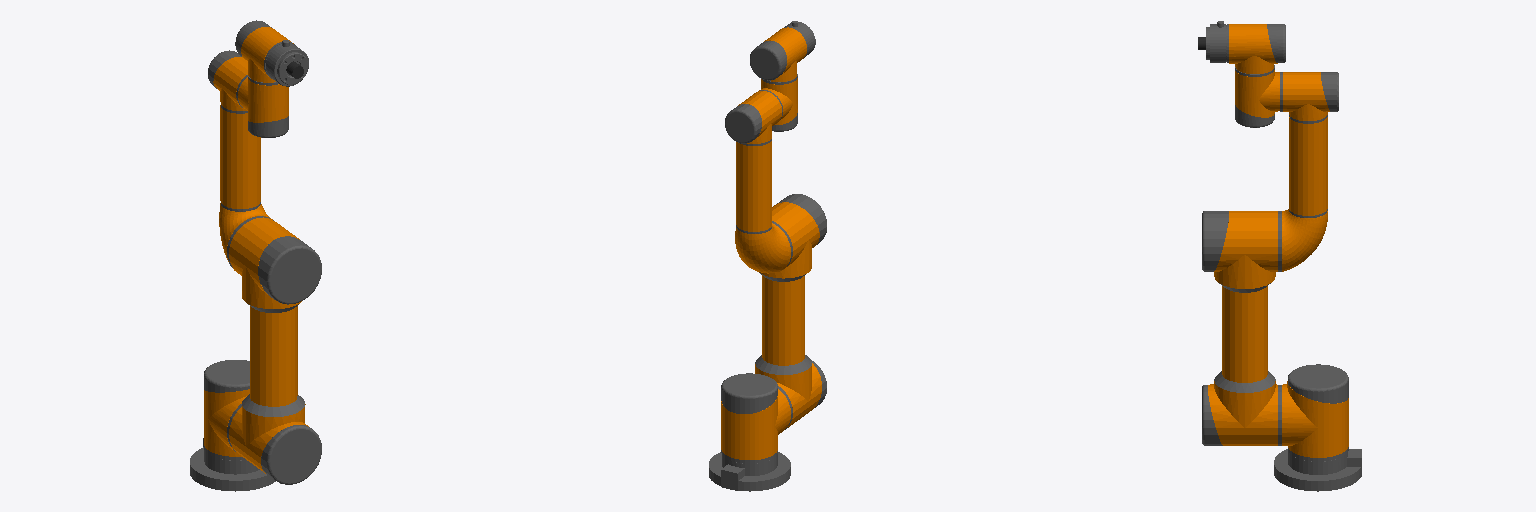
URDF robot description (aubo_i7):
<?xml version="1.0"?>
<robot  name="aubo_i7">

  <material name="Black_Acrylic">
    <color rgba="0.070360 0.070360 0.070360 1"/>
  </material>
  <material name="Cameras_Gray">
    <color rgba="0.296138 0.296138 0.296138 1"/>
  </material>
  <material name="IR_Emitter_Lens">
    <color rgba="0.287440 0.665387 0.327778 1"/>
  </material>
  <material name="IR_Lens">
    <color rgba="0.035601 0.035601 0.035601 1"/>
  </material>
  <material name="IR_Rim">
    <color rgba="0.799102 0.806952 0.799103 1"/>
  </material>
  <material name="Metal_Casing">
    <color rgba="1 1 1 1"/>
  </material>
  <material name="RGB_Pupil">
    <color rgba="0.087140 0.002866 0.009346 1"/>
  </material>
  <material name="Silver">
    <color rgba="0.75 0.75 0.75 1"/>
  </material>
  
  <dh_type type="modified"/>
  <safety_para singularity_consistent="0.02 0.01 10 0.2 0.045 10"/>	
  <link name="base_link">
    <inertial>
      <origin xyz="0.000129 0.001249 0.016678" rpy="0 0 0" />
      <mass value="1.53902" />
      <inertia ixx="0.003278" ixy="-0.000001" ixz="-0.000001" iyy="0.003017" iyz="-0.000048" izz="0.005841" />
    </inertial>
    <visual>
      <origin xyz="0 0 0" rpy="0 0 0" />
      <geometry>
        <mesh filename="link0.obj" />
      </geometry>
      <material name="gray">
        <color rgba="0.411765 0.411765 0.411765 1" />
      </material>
    </visual>
    <collision>
      <origin xyz="0 0 0" rpy="0 0 0" />
      <geometry>
        <mesh filename="link0.obj" />
      </geometry>
    </collision>
  </link>

  <link name="shoulder_Link">
    <inertial>
      <origin xyz="-0.00001 0.001807 -0.013854" rpy="0 0 0" />
      <mass value="4.848581" />
      <inertia ixx="0.011842" ixy="0" ixz="0.000004" iyy="0.0118" iyz="-0.000103" izz="0.008103" />
    </inertial>

    <visual>
        <origin xyz="0 0 0" rpy="0 0 0" />
        <geometry>
            <mesh filename="link1_0.obj" />
        </geometry>
        <material name="orange">
            <color rgba="0.909804 0.513726 0 1" />
        </material>
    </visual>
    
    <visual>
        <origin xyz="0 0 0" rpy="0 0 0" />
        <geometry>
            <mesh filename="link1_1.obj" />
        </geometry>
        <material name="gray">
            <color rgba="0.411765 0.411765 0.411765 1" />
        </material>
    </visual>

    <collision>
      <origin xyz="0 0 0" rpy="0 0 0" />
      <geometry>
        <mesh filename="link1.obj" />
      </geometry>
    </collision>
  </link>

  <joint name="shoulder_joint" type="revolute">
    <origin xyz="0 0 0.122" rpy="0 0 3.1415926535897932384626433832795" />
    <parent link="base_link" />
    <child link="shoulder_Link" />
    <axis xyz="0 0 1" />
    <limit lower="-6.283185307179586476925286766559" upper="6.283185307179586476925286766559" effort="133" start_stop="207" velocity="2.5964" />
    <property inertia="2.0" damping="0" stiffness="0" offset="0" motor_constant="8.72" ratio="121"/>
  </joint>

  <link name="upperArm_Link">
    <inertial>
      <origin xyz="0.184 0 0.006603" rpy="0 0 0" />
      <mass value="10.741921" />
      <inertia ixx="0.02582" ixy="-0.000019" ixz="0" iyy="0.355431" iyz="0" izz="0.347772" />
    </inertial>

    <visual>
        <origin xyz="0 0 0" rpy="0 0 0" />
        <geometry>
            <mesh filename="link2_0.obj" />
        </geometry>
        <material name="orange">
            <color rgba="0.909804 0.513726 0 1" />
        </material>
    </visual>
    
    <visual>
        <origin xyz="0 0 0" rpy="0 0 0" />
        <geometry>
            <mesh filename="link2_1.obj" />
        </geometry>
        <material name="gray">
            <color rgba="0.411765 0.411765 0.411765 1" />
        </material>
    </visual>

    <collision>
      <origin xyz="0 0 0" rpy="0 0 0" />
      <geometry>
        <mesh filename="link2.obj" />
      </geometry>
    </collision>
  </link>

  <joint name="upperArm_joint" type="revolute">
    <origin xyz="0 0.1215 0" rpy="-1.5707963267948966192313216916398 -1.5707963267948966192313216916398 0" />
    <parent link="shoulder_Link" />
    <child link="upperArm_Link" />
    <axis xyz="0 0 1" />
    <limit lower="-6.283185307179586476925286766559" upper="6.283185307179586476925286766559" effort="133" start_stop="207" velocity="2.5964" />
    <property inertia="2.0" damping="0" stiffness="0" offset="0" motor_constant="8.72" ratio="121"/>
  </joint>

  <link name="foreArm_Link">
    <inertial>
      <origin xyz="0.221799 -0.000027 0.093832" rpy="0 0 0" />
      <mass  value="2.854995" />
      <inertia ixx="0.003584" ixy="0.000008" ixz="0.000017" iyy="0.047624" iyz="0.000004" izz="0.046982" />
    </inertial>

    <visual>
        <origin xyz="0 0 0" rpy="0 0 0" />
        <geometry>
            <mesh filename="link3_1.obj" />
        </geometry>
        <material name="orange">
            <color rgba="0.909804 0.513726 0 1" />
        </material>
    </visual>
    
    <visual>
        <origin xyz="0 0 0" rpy="0 0 0" />
        <geometry>
            <mesh filename="link3_0.obj" />
        </geometry>
        <material name="gray">
            <color rgba="0.411765 0.411765 0.411765 1" />
        </material>
    </visual>

    <collision>
      <origin xyz="0 0 0" rpy="0 0 0" />
      <geometry>
        <mesh filename="link3.obj" />
      </geometry>
    </collision>
  </link>

  <joint name="foreArm_joint" type="revolute">
    <origin xyz="0.368 0 0" rpy="-3.1415926535897932384626433832795 0 0" />
    <parent link="upperArm_Link" />
    <child link="foreArm_Link" />
    <axis xyz="0 0 1" />
    <limit lower="-6.283185307179586476925286766559" upper="6.283185307179586476925286766559" effort="133" start_stop="207" velocity="2.5964" />
    <property inertia="2.0" damping="0" stiffness="0" offset="0" motor_constant="8.72" ratio="121"/>
  </joint>

  <link name="wrist1_Link">
    <inertial>
      <origin xyz="0.000038 0.011278 -0.001539" rpy="0 0 0" />
      <mass value="1.628022" />
      <inertia ixx="0.001951" ixy="0.000003" ixz="0.000001" iyy="0.001154" iyz="-0.000042" izz="0.001931" />
    </inertial>

    <visual>
        <origin xyz="0 0 0" rpy="0 0 0" />
        <geometry>
            <mesh filename="link4_1.obj" />
        </geometry>
        <material name="orange">
            <color rgba="0.909804 0.513726 0 1" />
        </material>
    </visual>
    
    <visual>
        <origin xyz="0 0 0" rpy="0 0 0" />
        <geometry>
            <mesh filename="link4_0.obj" />
        </geometry>
        <material name="gray">
            <color rgba="0.411765 0.411765 0.411765 1" />
        </material>
    </visual>

    <collision>
      <origin xyz="0 0 0" rpy="0 0 0" />
      <geometry>
        <mesh filename="link4.obj" />
      </geometry>
    </collision>
  </link>

  <joint name="wrist1_joint" type="revolute">
    <origin xyz="0.316 0 0" rpy="3.1415926535897932384626433832795 0 1.5707963267948966192313216916398" />
    <parent link="foreArm_Link" />
    <child link="wrist1_Link" />
    <axis xyz="0 0 1" />
    <limit lower="-6.283185307179586476925286766559" upper="6.283185307179586476925286766559" effort="13.5" start_stop="34" velocity="3.1105" />
    <property inertia="0.15" damping="0" stiffness="0" offset="0" motor_constant="7.092" ratio="101"/>
  </joint>

  <link name="wrist2_Link">
    <inertial>
      <origin xyz="-0.000038 -0.011278 -0.001539" rpy="0 0 0" />
      <mass value="1.628022" />
      <inertia ixx="0.001951" ixy="0.000003" ixz="-0.000001" iyy="0.001154" iyz="0.000042" izz="0.001931" />
    </inertial>

    <visual>
        <origin xyz="0 0 0" rpy="0 0 0" />
        <geometry>
            <mesh filename="link5_1.obj" />
        </geometry>
        <material name="orange">
            <color rgba="0.909804 0.513726 0 1" />
        </material>
    </visual>
    
    <visual>
        <origin xyz="0 0 0" rpy="0 0 0" />
        <geometry>
            <mesh filename="link5_0.obj" />
        </geometry>
        <material name="gray">
            <color rgba="0.411765 0.411765 0.411765 1" />
        </material>
    </visual>

    <collision>
      <origin xyz="0 0 0" rpy="0 0 0" />
      <geometry>
        <mesh filename="link5.obj" />
      </geometry>
    </collision>
  </link>

  <joint name="wrist2_joint" type="revolute">
    <origin xyz="0 0.1025 0" rpy="-1.5707963267948966192313216916398 0 0" />
    <parent link="wrist1_Link" />
    <child link="wrist2_Link" />
    <axis xyz="0 0 1" />
    <limit lower="-6.283185307179586476925286766559" upper="6.283185307179586476925286766559" effort="13.5" start_stop="34" velocity="3.1105" />
    <property inertia="0.15" damping="0" stiffness="0" offset="0" motor_constant="7.092" ratio="101"/>
  </joint>

  <link name="wrist3_Link">
    <inertial>
      <origin xyz="0.000022 0.0006 -0.017081" rpy="0 0 0" />
      <mass value="0.1978" />
      <inertia ixx="0.000118" ixy="0" ixz="0" iyy="0.000112" iyz="0.000001" izz="0.000184" />
    </inertial>
    <visual>
      <origin xyz="0 0 0" rpy="0 0 0" />
      <geometry>
        <mesh filename="link6.obj" />
      </geometry>
      <material name="gray">
        <color rgba="0.411765 0.411765 0.411765 1" />
      </material>
    </visual>
    <collision>
      <origin xyz="0 0 0" rpy="0 0 0" />
      <geometry>
        <mesh filename="link6.obj" />
      </geometry>
    </collision>
  </link>

  <joint name="wrist3_joint" type="revolute">
    <origin xyz="0 -0.094 0" rpy="1.5707963267948966192313216916398 0 1.7907E-15" />
    <parent link="wrist2_Link" />
    <child link="wrist3_Link" />
    <axis xyz="0 0 1" />
    <limit lower="-6.283185307179586476925286766559" upper="6.283185307179586476925286766559" effort="13.5" start_stop="34" velocity="3.1105" />
    <property inertia="0.15" damping="0" stiffness="0" offset="0" motor_constant="7.092" ratio="101"/>
  </joint>

  <link name="ft_Link">
    <inertial>
      <origin xyz="0 0 0" rpy="0 0 0" />
      <mass value="0" />
      <inertia ixx="0" ixy="0" ixz="0" iyy="0" iyz="0" izz="0" />
    </inertial>
    <visual>
      <origin xyz="0 0 0" rpy="0 0 0" />
      <geometry>
        <cylinder radius="0.0125" length="0.032"/>
      </geometry>
      <material name="gray">
        <color rgba="0.22 0.22 0.22 1" />
      </material>
    </visual>
    <collision>
      <origin xyz="0 0 0" rpy="0 0 0" />
      <geometry>
        <cylinder radius="0.0125" length="0.032"/>
      </geometry>
    </collision>
  </link>

  <joint name="ft_joint" type="fixed">
    <parent link="wrist3_Link" />
    <child link="ft_Link" />
    <origin xyz="0 0 0" rpy="0 0 0" />
  </joint>

  <link name="camera_link">
    <inertial>
      <origin xyz="0 0 0" rpy="0 0 0"/>
      <mass value="0.072"/>
      <inertia ixx="0.0001" ixy="0" ixz="0" iyy="0.0001" iyz="0" izz="0.0001"/>
    </inertial>

    <visual>
      <geometry>
        <mesh filename="assets/d435i_0.obj" scale="1 1 1"/>
      </geometry>
      <material name="IR_Lens"/>
    </visual>
    
    <visual>
      <geometry>
        <mesh filename="assets/d435i_1.obj" scale="1 1 1"/>
      </geometry>
      <material name="IR_Emitter_Lens"/>
    </visual>
    
    <visual>
      <geometry>
        <mesh filename="assets/d435i_2.obj" scale="1 1 1"/>
      </geometry>
      <material name="IR_Rim"/>
    </visual>
    
    <visual>
      <geometry>
        <mesh filename="assets/d435i_3.obj" scale="1 1 1"/>
      </geometry>
      <material name="IR_Lens"/>
    </visual>
    
    <visual>
      <geometry>
        <mesh filename="assets/d435i_4.obj" scale="1 1 1"/>
      </geometry>
      <material name="Cameras_Gray"/>
    </visual>
    
    <visual>
      <geometry>
        <mesh filename="assets/d435i_5.obj" scale="1 1 1"/>
      </geometry>
      <material name="Black_Acrylic"/>
    </visual>
    
    <visual>
      <geometry>
        <mesh filename="assets/d435i_6.obj" scale="1 1 1"/>
      </geometry>
      <material name="Black_Acrylic"/>
    </visual>
    
    <visual>
      <geometry>
        <mesh filename="assets/d435i_7.obj" scale="1 1 1"/>
      </geometry>
      <material name="RGB_Pupil"/>
    </visual>
    
    <visual>
      <geometry>
        <mesh filename="assets/d435i_8.obj" scale="1 1 1"/>
      </geometry>
      <material name="Metal_Casing"/>
    </visual>

    <collision>
      <geometry>
        <box size="0.09 0.05 0.03"/>
      </geometry>
    </collision>
  </link>

  <joint name="camera_joint" type="fixed">
    <parent link="wrist3_Link" />
    <child link="camera_link" />
    <origin xyz="0.0 0.05 -0.01" rpy="0 0 0" />
  </joint>
  
  <link name="world" />

  <joint name="world_joint" type="fixed">
    <parent link="world" />
    <child link = "base_link" />
    <origin xyz="0.0 0.0 0.0" rpy="0.0 0.0 0.0" />
  </joint>
</robot>

--- What the picture shows (computed from the rendered views, not written in the file) ---
The picture shows the robot from 3 angles, left to right: view 1: azimuth 30°, elevation 25°; view 2: azimuth 150°, elevation 25°; view 3: azimuth 270°, elevation 25°; orthographic projection.
Robot: aubo_i7 — 10 links, 9 joints (6 revolute, 3 fixed); root link world; default pose: all joints at 0.
Visible links, largest first — view 1: upperArm_Link, foreArm_Link, shoulder_Link, wrist1_Link, base_link, wrist2_Link, wrist3_Link; view 2: upperArm_Link, foreArm_Link, shoulder_Link, base_link, wrist2_Link, wrist1_Link; view 3: upperArm_Link, foreArm_Link, shoulder_Link, wrist2_Link, base_link, wrist1_Link, wrist3_Link.
Link boxes in pixels (bbox=[...]): upperArm_Link: bbox=[227, 216, 321, 484]; foreArm_Link: bbox=[208, 50, 272, 270]; shoulder_Link: bbox=[204, 360, 249, 460]; wrist1_Link: bbox=[238, 76, 288, 137]; base_link: bbox=[190, 438, 275, 491]; wrist2_Link: bbox=[235, 20, 294, 82]; wrist3_Link: bbox=[266, 40, 308, 86]; upperArm_Link: bbox=[755, 194, 826, 429]; foreArm_Link: bbox=[725, 90, 790, 273]; shoulder_Link: bbox=[721, 373, 790, 463]; base_link: bbox=[709, 452, 790, 491]; wrist2_Link: bbox=[750, 27, 807, 81]; wrist1_Link: bbox=[759, 74, 797, 131]; upperArm_Link: bbox=[1202, 211, 1281, 445]; foreArm_Link: bbox=[1280, 72, 1338, 271]; shoulder_Link: bbox=[1282, 364, 1348, 461]; wrist2_Link: bbox=[1226, 24, 1285, 73]; base_link: bbox=[1274, 449, 1361, 491]; wrist1_Link: bbox=[1235, 65, 1279, 127]; wrist3_Link: bbox=[1206, 21, 1225, 62].
Bounding box of the posed robot: 0.17 × 0.3164 × 0.9545 m (x, y, z).
Meshes: 21 distinct files referenced, 12 mesh visuals loaded (12 OBJ); not drawn: 9 (reference not matched to a file when rendering).
